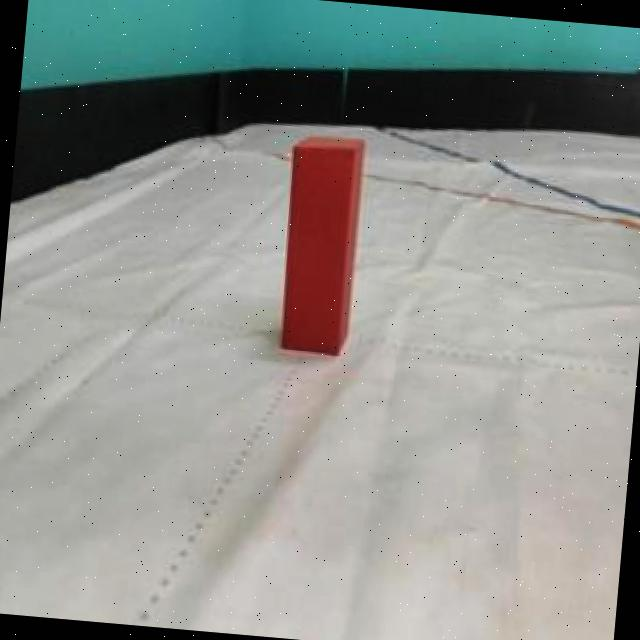redbox: (270, 132, 364, 356)
